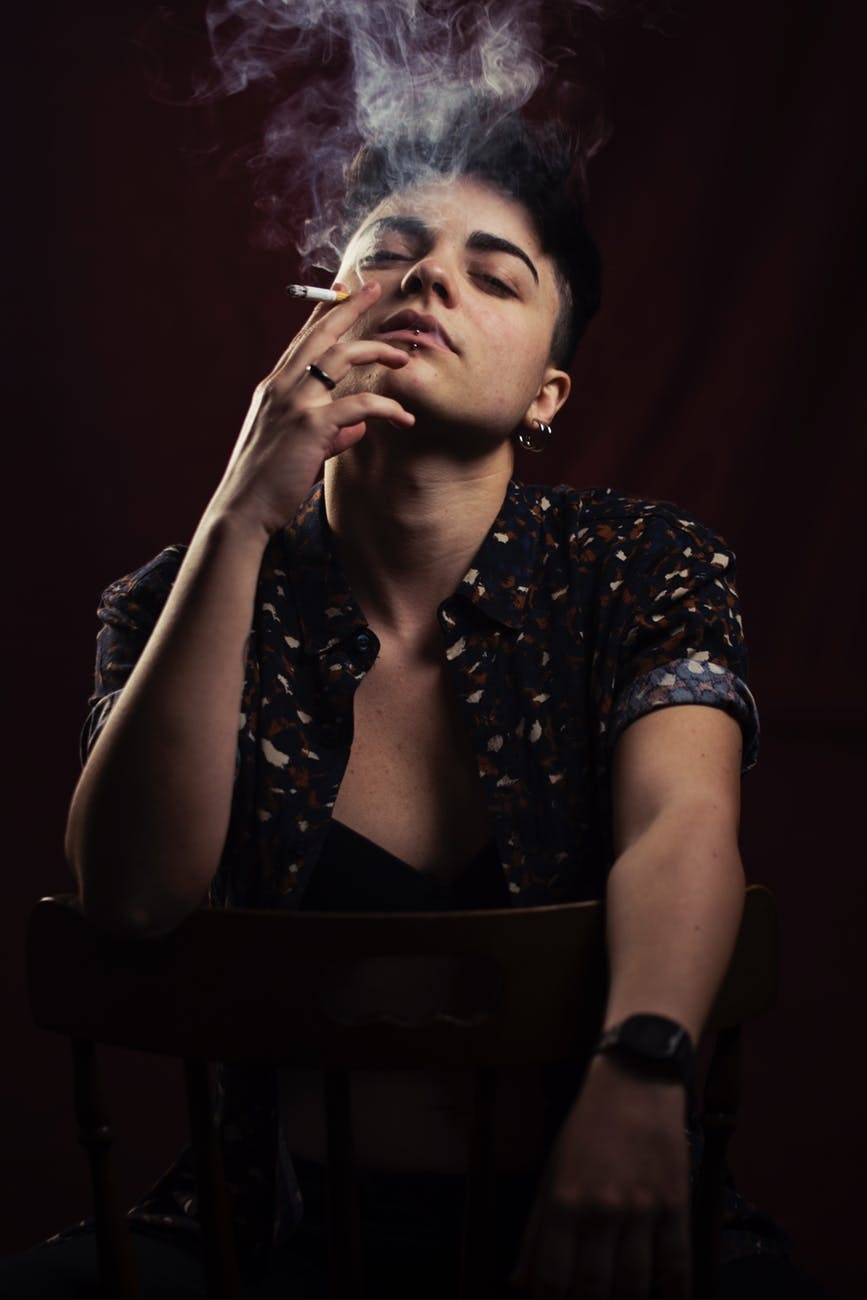sigaretta: (260, 272, 374, 308)
